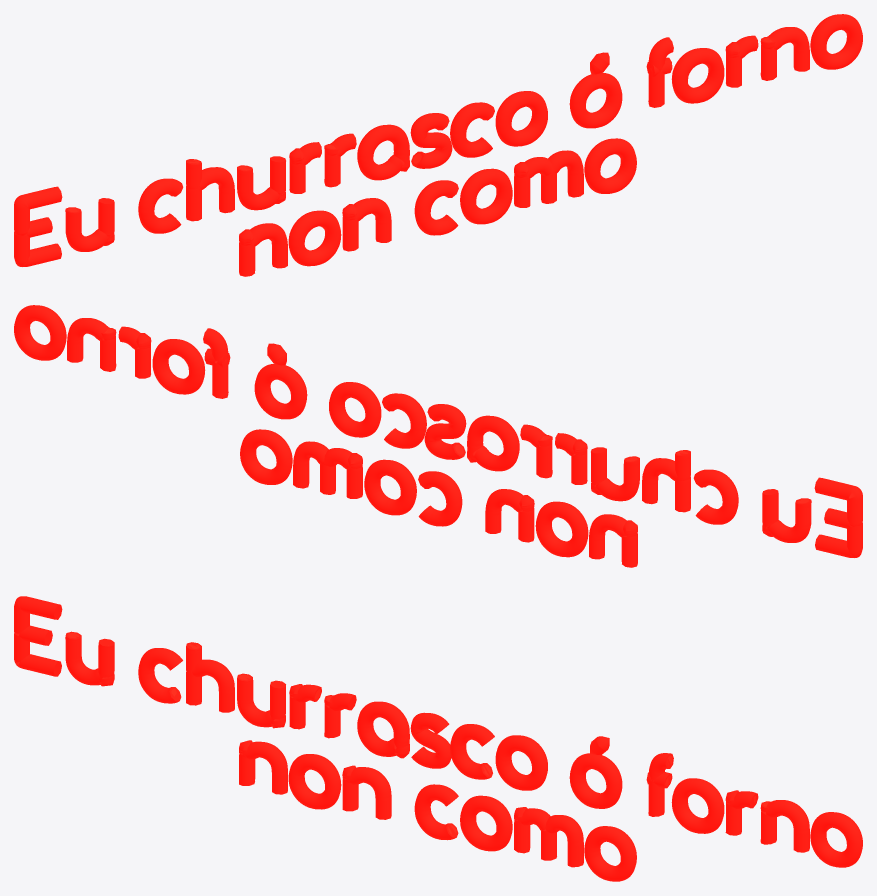
File: rotulo-churrasco.glb
The picture shows the model from 3 angles, top to bottom: view 1: azimuth 30°, elevation 25°; view 2: azimuth 150°, elevation 25°; view 3: azimuth 330°, elevation 25°; orthographic projection.
Parts seen in each view (by area): view 1: NEON_GLOW; view 2: NEON_GLOW; view 3: NEON_GLOW.
Part boxes in pixels (bbox=[...]): NEON_GLOW: bbox=[14, 14, 862, 276]; NEON_GLOW: bbox=[14, 305, 862, 567]; NEON_GLOW: bbox=[14, 596, 862, 881].
Size of the model in its own units: 1096 by 175 by 18.73.
